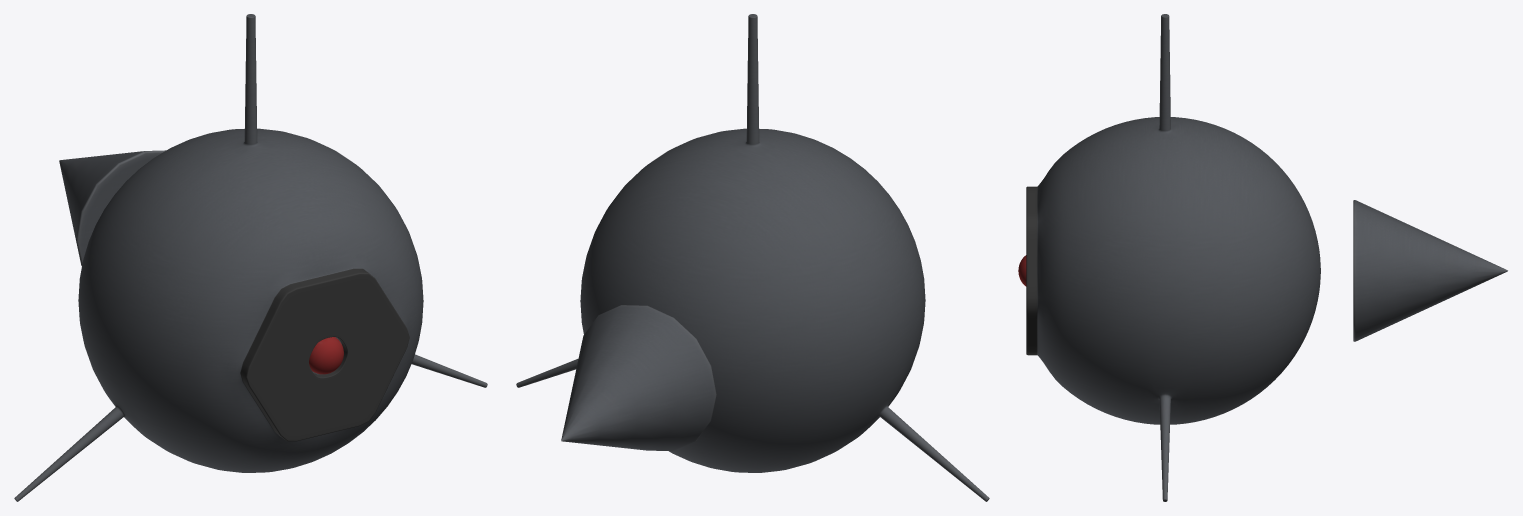
The model's file is mechanismSmall00.fbx.
3 renders of one model, left to right at view 1: azimuth 30°, elevation 25°; view 2: azimuth 150°, elevation 25°; view 3: azimuth 270°, elevation 25°, orthographic. The views are drawn at different scales.
Visible parts, largest first — view 1: mechanismSmall; view 2: mechanismSmall; view 3: mechanismSmall.
Part boxes in pixels (bbox=[...]): mechanismSmall: bbox=[14, 14, 487, 501]; mechanismSmall: bbox=[516, 14, 989, 501]; mechanismSmall: bbox=[1018, 14, 1507, 501].
Size of the model in its own units: 31.32 by 27.97 by 31.44.
1 material, 1 textured.
